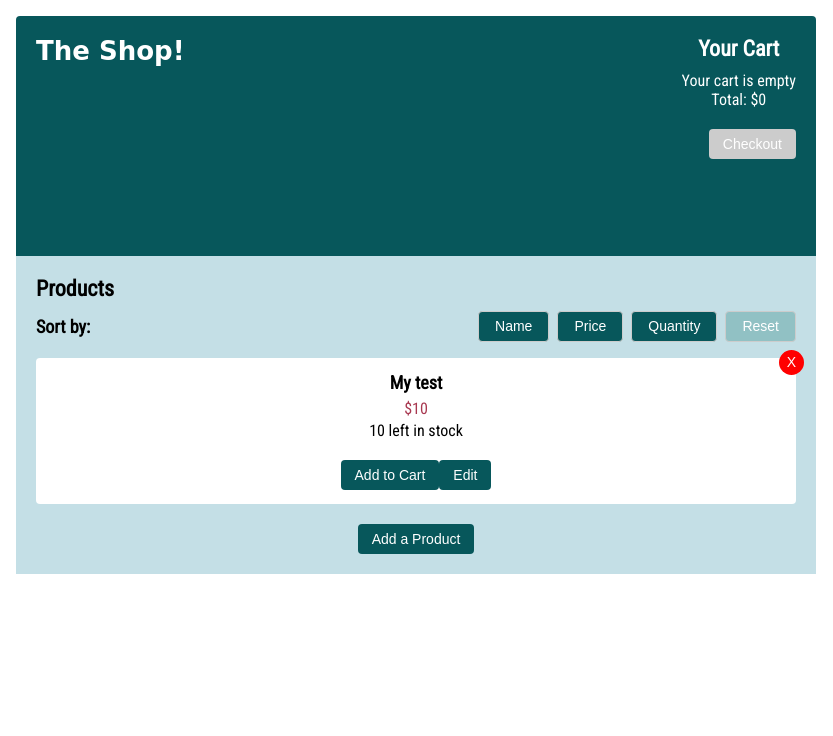
Scenario: Updating the product closes the form
Click the button "Edit" at (465, 475), box [439, 460, 491, 490]
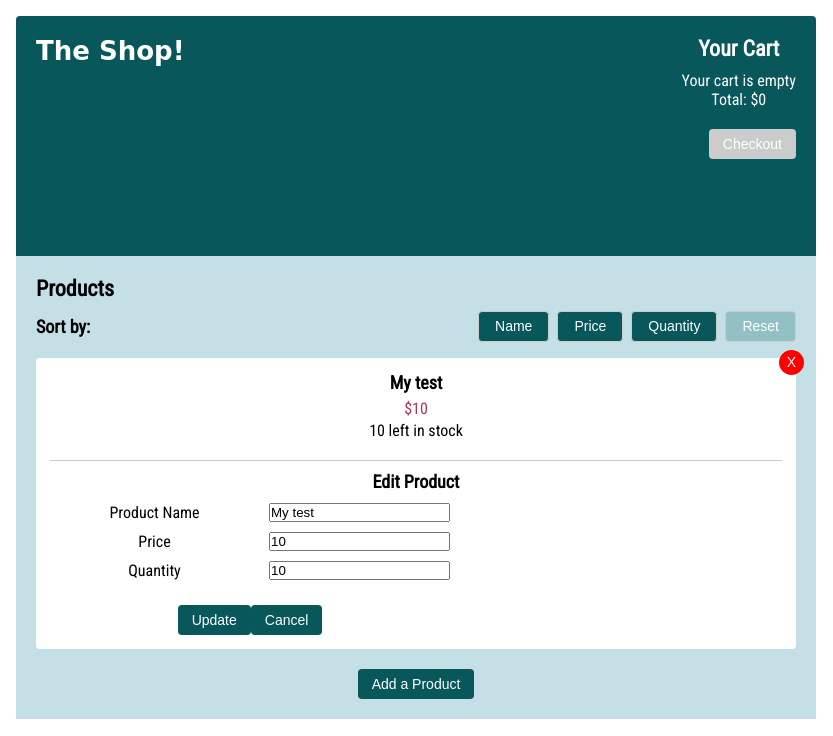
Now the field labelled "Product Name" is shown, box [269, 503, 450, 522]
Now the number field labelled "Price" is shown, box [269, 532, 450, 551]
Now the number field labelled "Quantity" is shown, box [269, 561, 450, 580]
Click the button "Cancel" at (287, 620), box [251, 605, 322, 635]
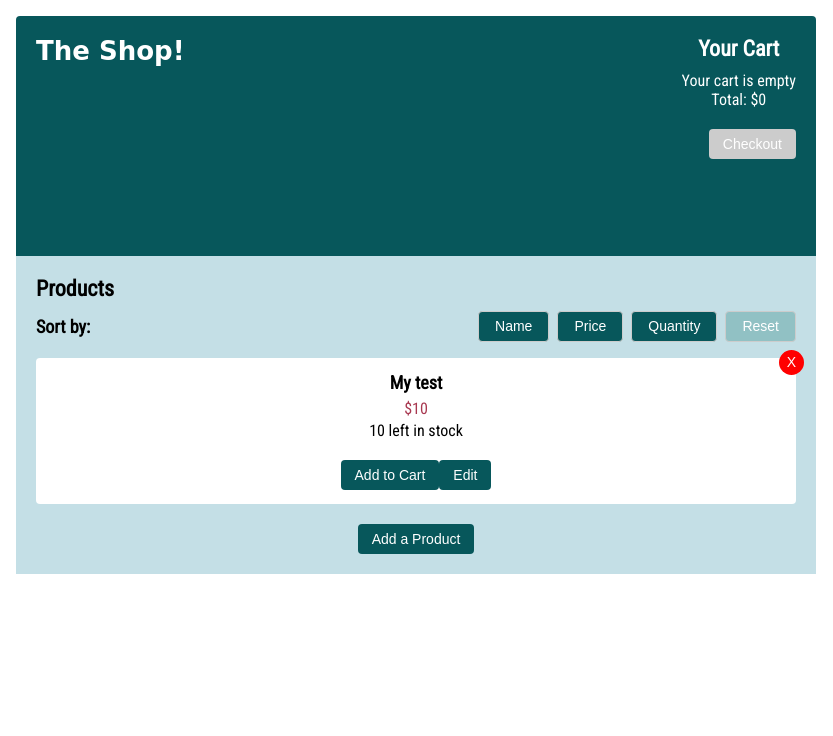
Now the label "Product Name" is gone
Now the button "Update" is gone
Now the button "Cancel" is gone
